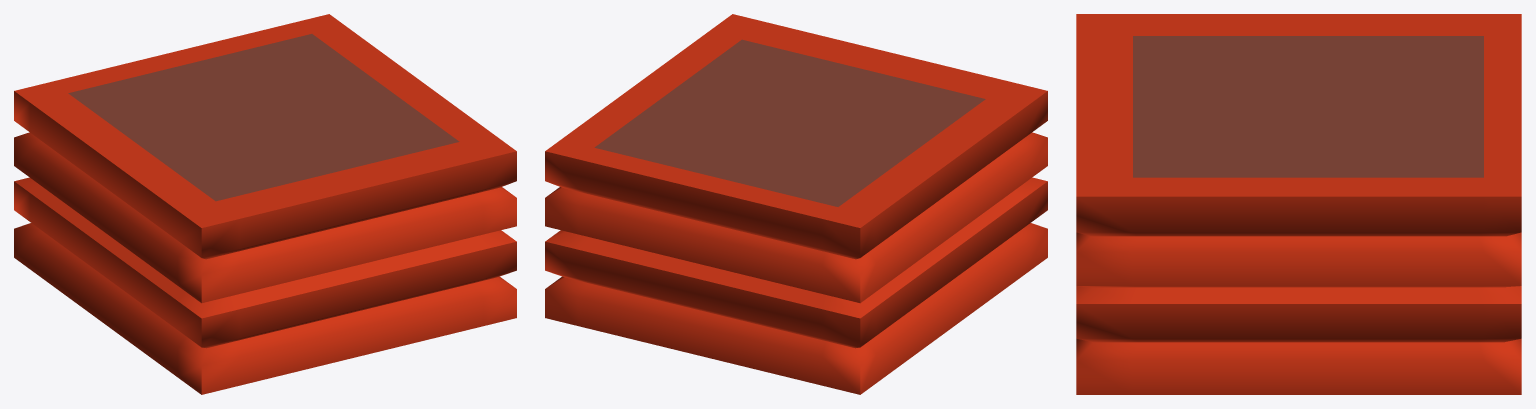
The model's file is flower_box.fbx.
3 renders of one model, left to right at view 1: azimuth 30°, elevation 25°; view 2: azimuth 150°, elevation 25°; view 3: azimuth 270°, elevation 25°, orthographic. The views are drawn at different scales.
Visible parts, largest first — view 1: cube3; view 2: cube3; view 3: cube3.
Boxes of the visible parts, x1,y1,x2,y2 form: cube3: (14, 14, 516, 394); cube3: (545, 14, 1047, 394); cube3: (1076, 14, 1521, 394).
Size of the model in its own units: 5.57 by 2.82 by 5.74.
